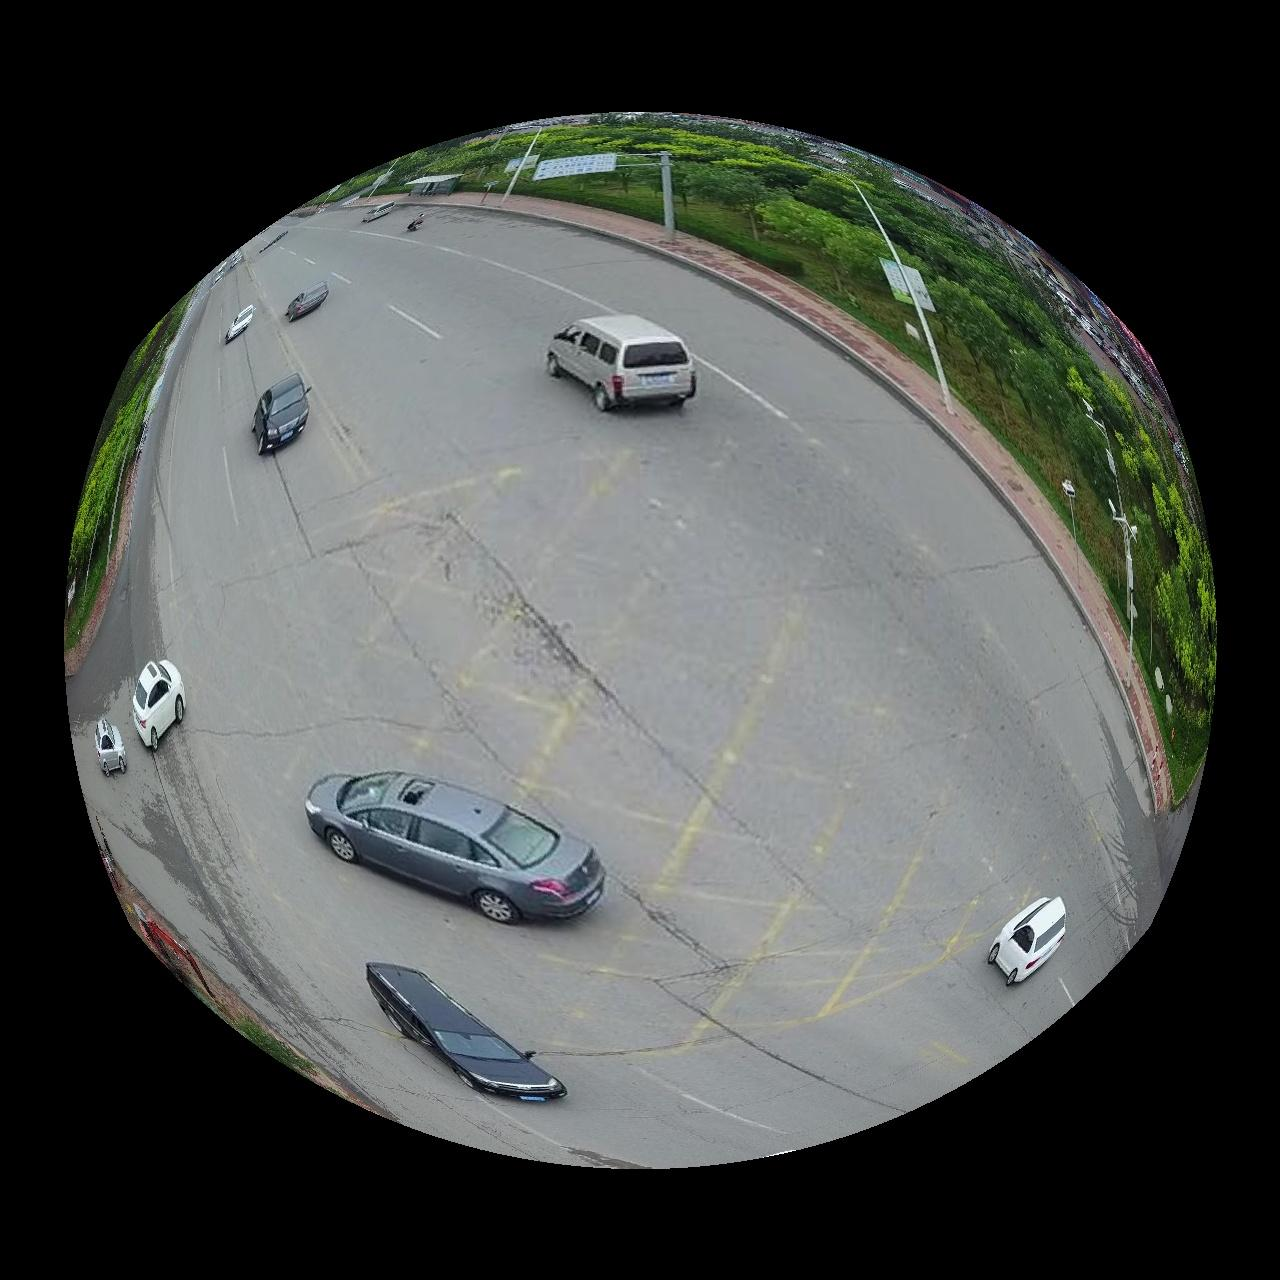cars: (304, 772, 605, 924), (366, 966, 567, 1104), (547, 314, 698, 410), (989, 899, 1070, 986), (130, 660, 186, 750), (251, 372, 311, 454), (93, 717, 126, 776), (284, 281, 328, 320), (220, 303, 255, 342)
trees: (1114, 420, 1216, 700), (1014, 342, 1110, 484), (931, 277, 1016, 408), (762, 195, 861, 290)
